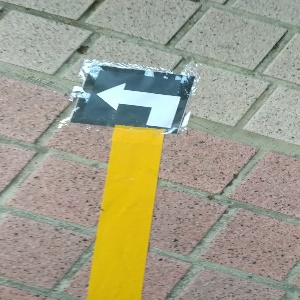left: (72, 63, 194, 133)
